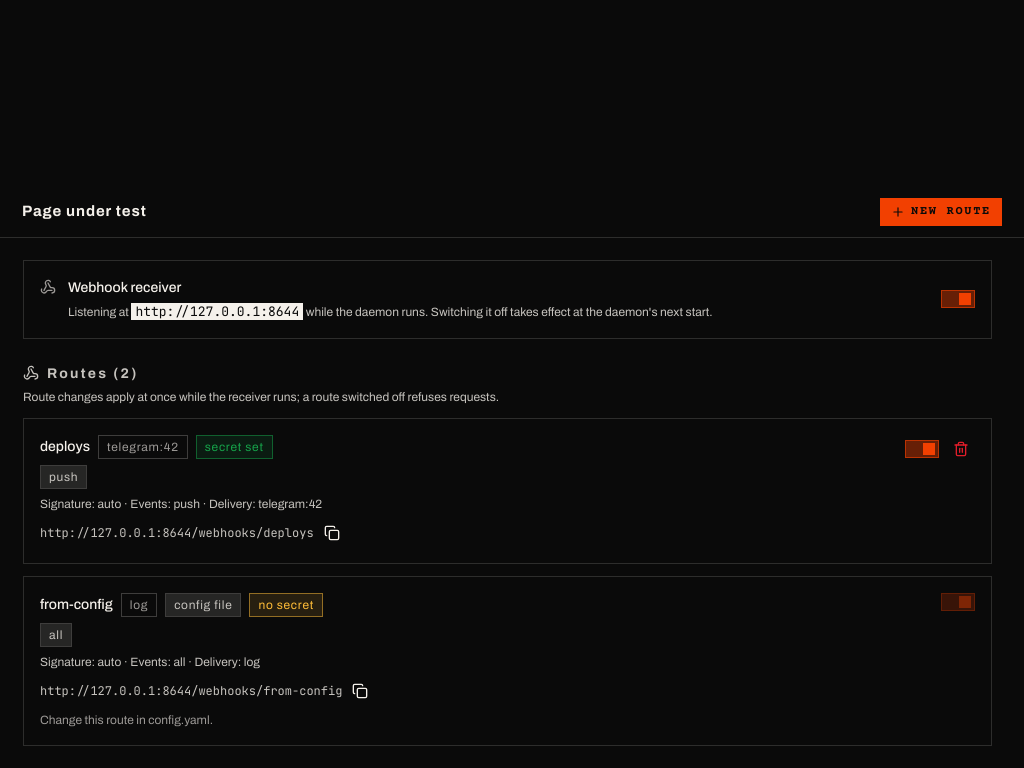
Test: webhooks page › switches routes and the receiver, deletes after confirming, leaves config routes alone
(page scrolled)
Expected: the text "Signature: auto · Events: push · Delivery: telegram:42" is shown, x1=40 y1=496 x2=322 y2=510
Click the switch named "Enable deploys": click(922, 448) x1=905 y1=440 x2=939 y2=458
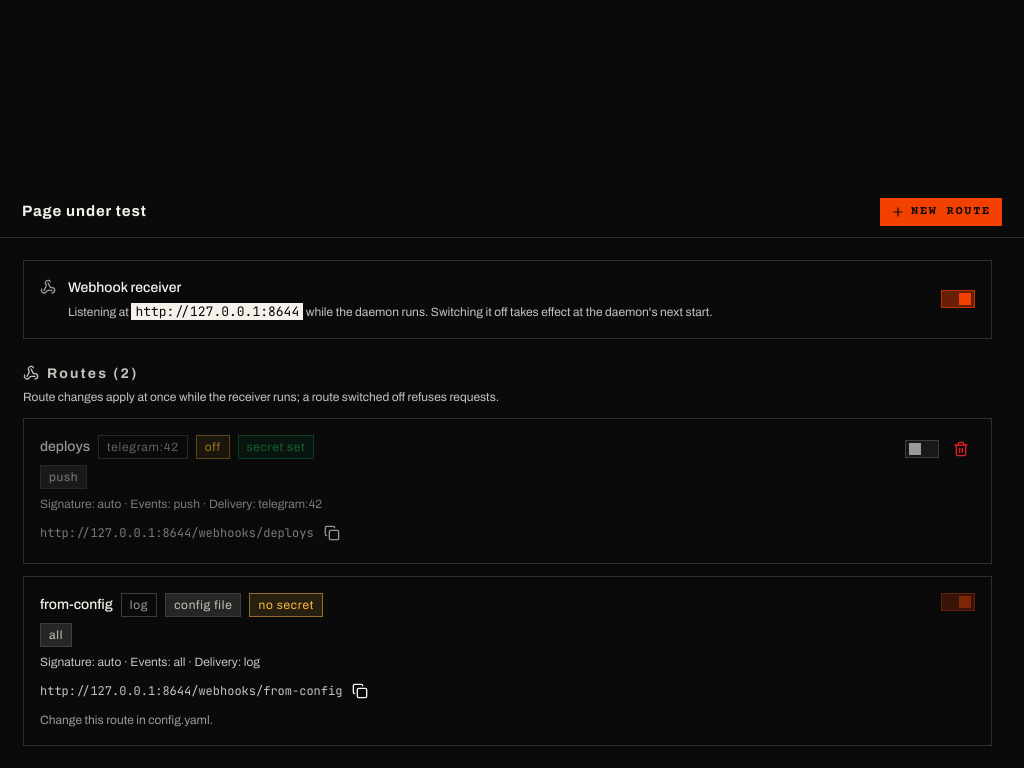
Click the switch named "Webhook receiver on": click(958, 299) x1=941 y1=290 x2=975 y2=308
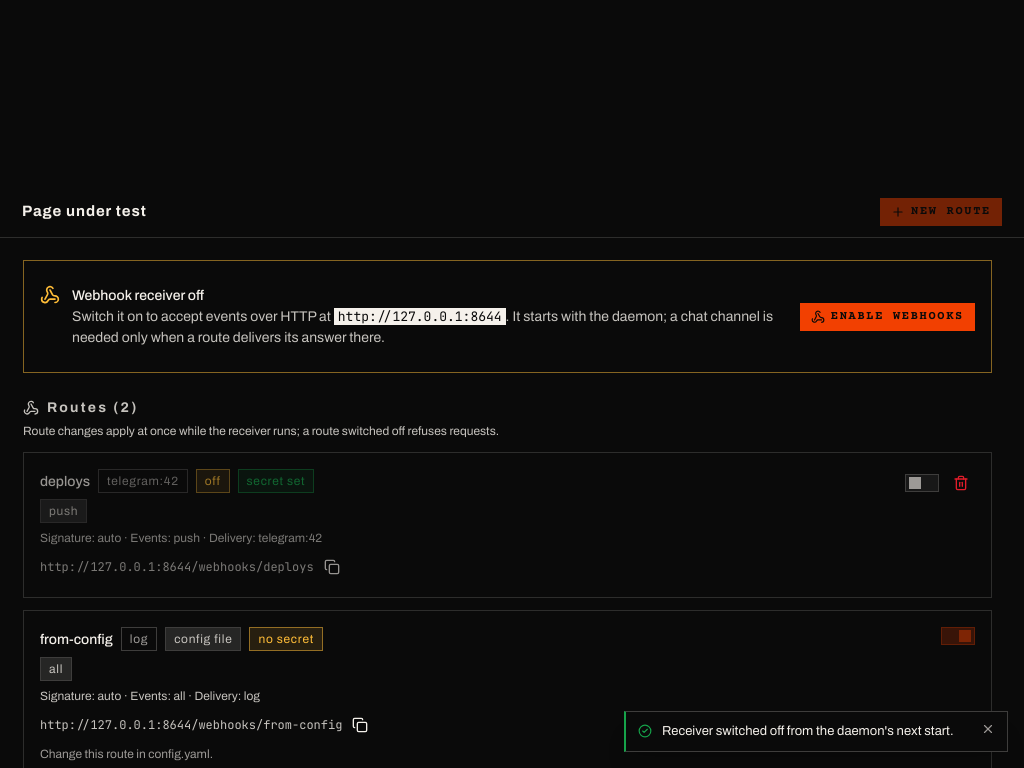
Expected: the switch named "Enable from-config" is disabled, x1=941 y1=627 x2=975 y2=645
Expected: the button "Delete" is not shown
Click the button named "Delete": click(961, 483) x1=947 y1=469 x2=975 y2=497
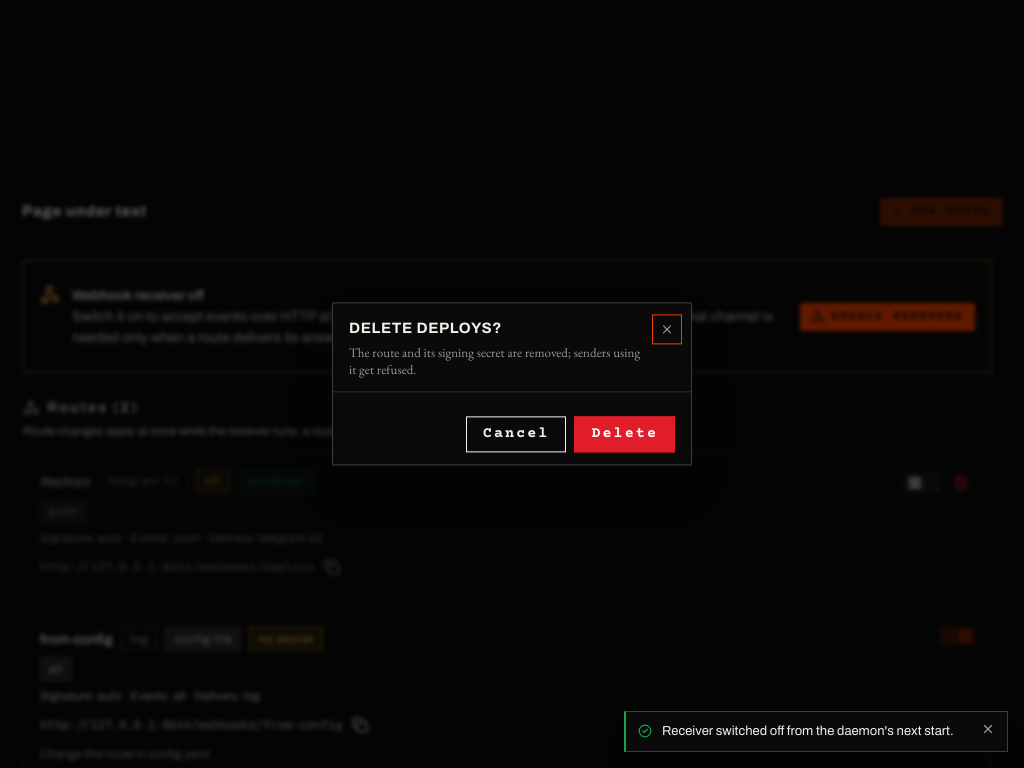
Click the button "Delete": click(625, 435) x1=574 y1=417 x2=675 y2=453
(page scrolled)
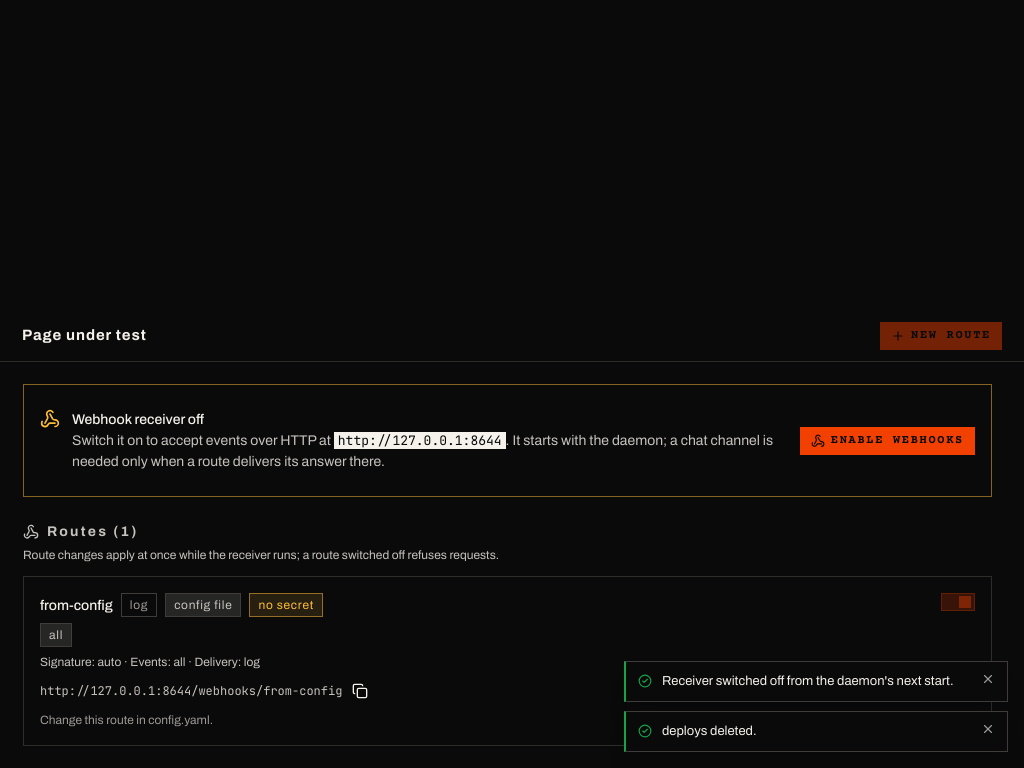
Expected: the list item with test id "webhook-deploys" is gone
